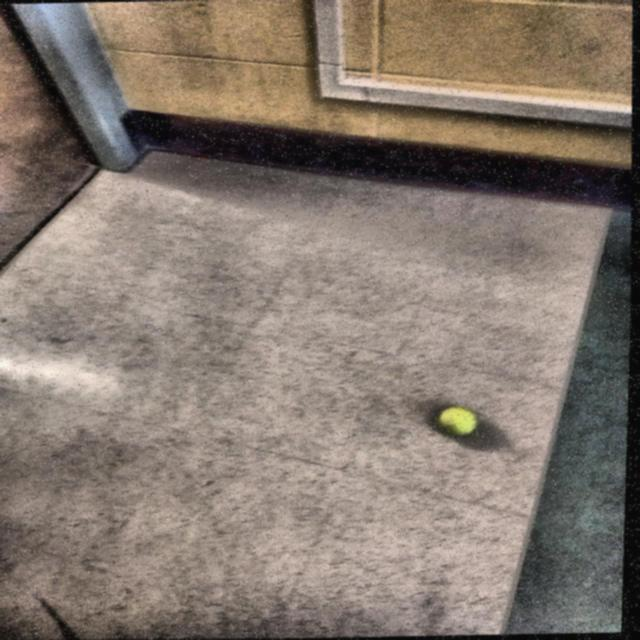tennis-ball: (436, 401, 484, 447)
